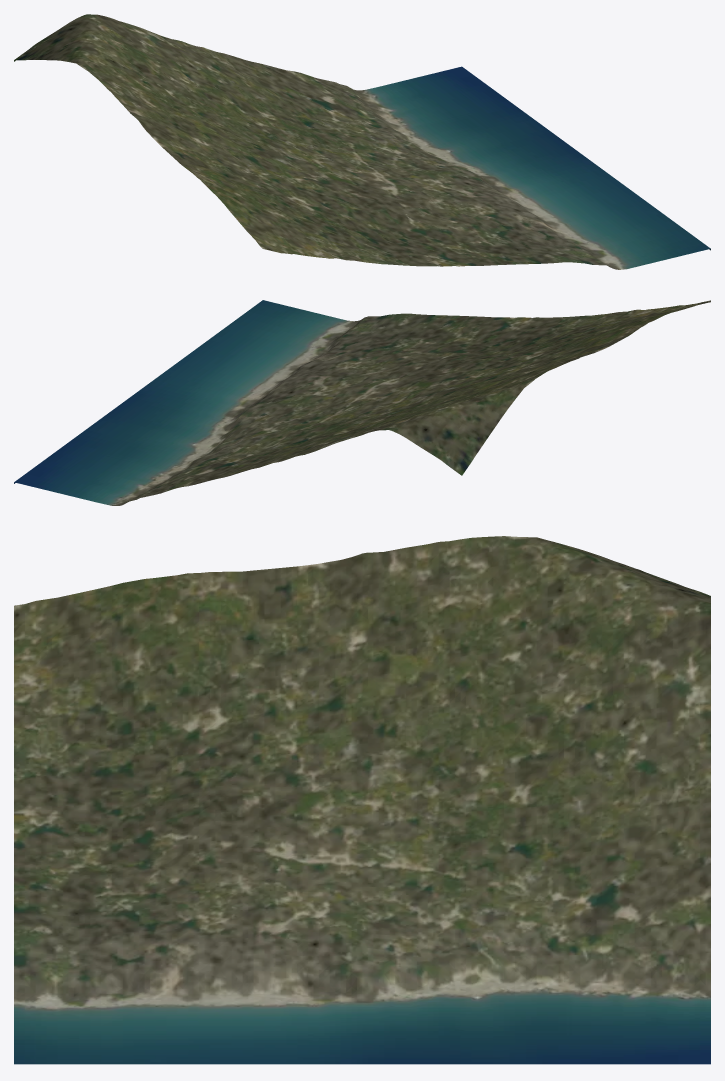
The picture shows the model from 3 angles, top to bottom: view 1: azimuth 30°, elevation 25°; view 2: azimuth 150°, elevation 25°; view 3: azimuth 270°, elevation 25°; orthographic projection. The views are drawn at different scales.
Bounding box in the file's own units: 250 × 85.66 × 241.
Materials: 1 (1 with a texture image).
